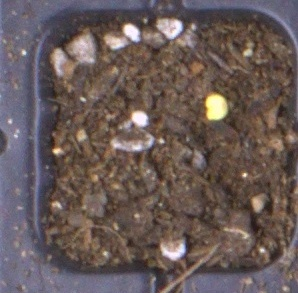chilli seed: (204, 93, 229, 122)
